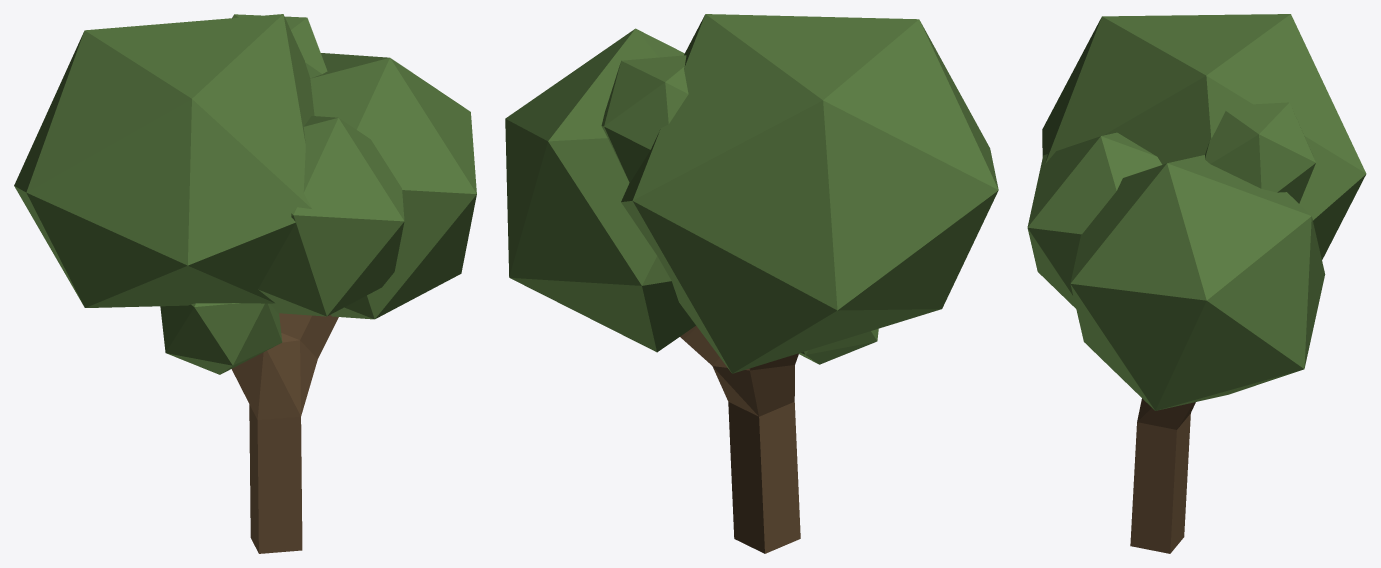
Rendered from grand_chene.fbx.
The picture shows the model from 3 angles, left to right: view 1: azimuth 30°, elevation 25°; view 2: azimuth 150°, elevation 25°; view 3: azimuth 270°, elevation 25°; orthographic projection. The views are drawn at different scales.
Visible parts, largest first — view 1: Plan.003; view 2: Plan.003; view 3: Plan.003.
Part boxes in pixels (x1,y1,x2,y2): Plan.003: (14,14,476,553); Plan.003: (505,14,998,553); Plan.003: (1027,14,1366,553).
Size of the model in its own units: 741 by 787 by 502.
